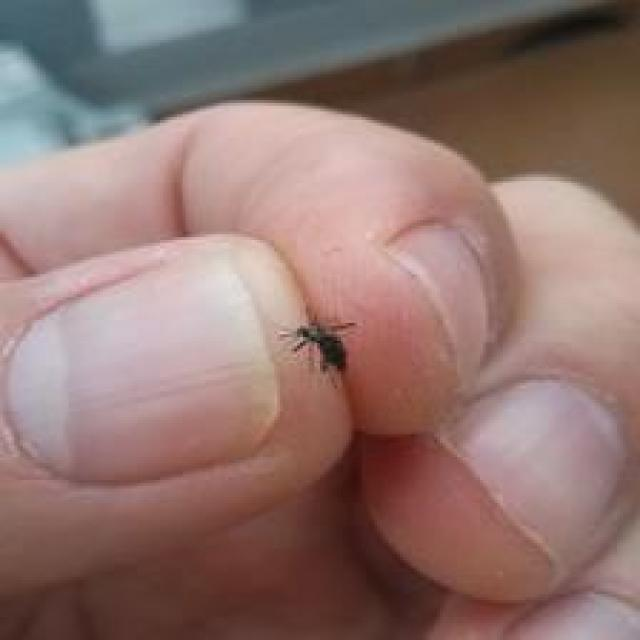Aedes albopictus: (277, 316, 357, 381)
